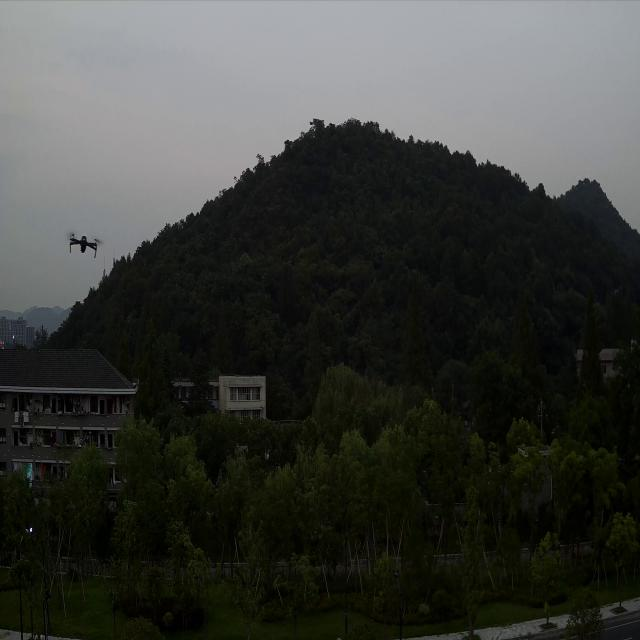UAV: (68, 233, 100, 258)
